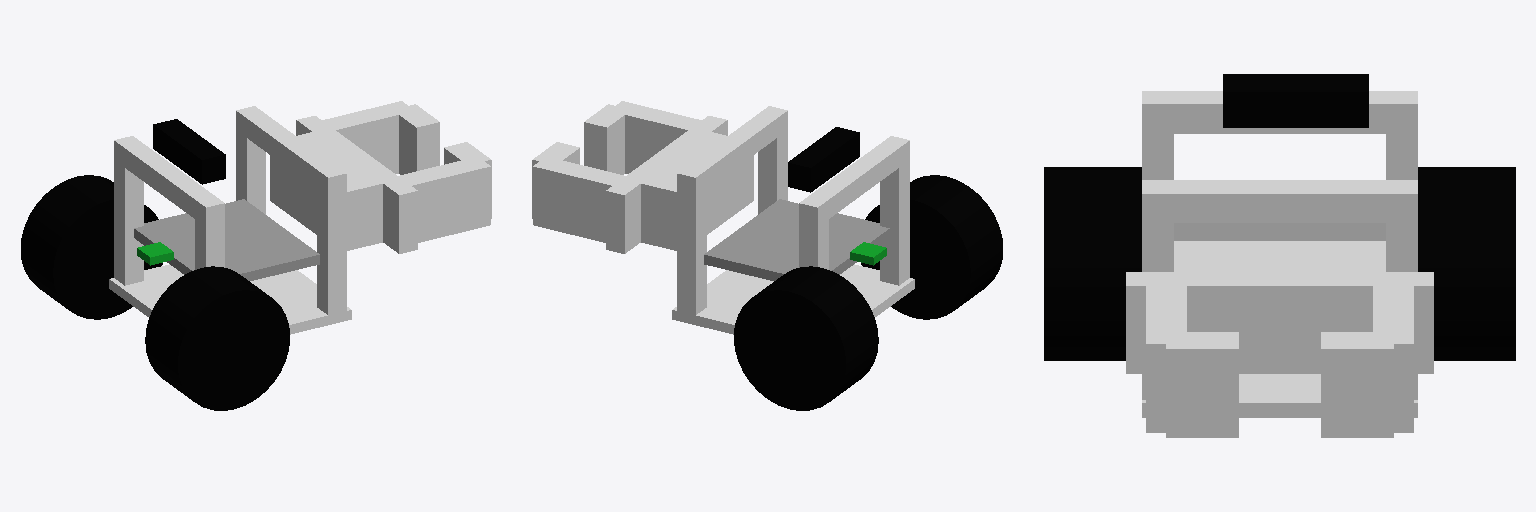
The robot description file, URDF, robot "rescue_robot":
<?xml version="1.0"?>
<robot name="rescue_robot">

  <!--
    ROS 좌표축
    +X : 그리퍼 방향, 로봇 전방
    +Y : 로봇 왼쪽
    +Z : 위쪽

    높이 기준
    지면                  : 0 mm
    바퀴축 중심           : 60 mm
    차체 하판 밑면        : 30 mm
    차체 프레임 최고점   : 180 mm
    그리퍼 밑면           : 90 mm
    그리퍼 윗면          : 150 mm
    IMU 중심             : 100 mm
    카메라 중심          : base_link 기준 실측 장착값 z = 130 mm

    CAD reference (STEP/STL, 2026-09-03)
    전체 외곽             : X 372.972 mm, Y 225.995 mm, Z 298.629 mm
    CAD 원점은 base_link와 일치한다고 확정되지 않았으므로,
    아래 cad_model_link는 RViz 형상 확인용으로만 사용한다.
  -->


  <!-- 색상 -->

  <material name="white">
    <color rgba="0.92 0.92 0.92 1.0"/>
  </material>

  <material name="light_gray">
    <color rgba="0.65 0.65 0.65 1.0"/>
  </material>

  <material name="black">
    <color rgba="0.03 0.03 0.03 1.0"/>
  </material>

  <material name="green">
    <color rgba="0.10 0.70 0.20 1.0"/>
  </material>


  <!-- 기본 좌표계 -->

  <link name="base_footprint"/>

  <link name="base_link"/>

  <!-- 바퀴 반지름 60mm이므로 바퀴축은 지면에서 60mm -->
  <joint name="base_footprint_to_base_link" type="fixed">
    <parent link="base_footprint"/>
    <child link="base_link"/>
    <origin xyz="0 0 0.060" rpy="0 0 0"/>
  </joint>


  <!-- ====================================================== -->
  <!-- 차체 하판 -->
  <!-- 밑면 30mm, 두께 10mm, 윗면 40mm -->
  <!-- ====================================================== -->

  <link name="lower_body_plate_link">
    <visual>
      <geometry>
        <box size="0.160 0.170 0.010"/>
      </geometry>
      <material name="white"/>
    </visual>
  </link>

  <joint name="lower_body_plate_joint" type="fixed">
    <parent link="base_link"/>
    <child link="lower_body_plate_link"/>

    <!-- 절대 중심 높이 35mm - base_link 60mm = -25mm -->
    <origin xyz="0.080 0 -0.025" rpy="0 0 0"/>
  </joint>


  <!-- ====================================================== -->
  <!-- 차체 세로 프레임 -->
  <!-- 하판 윗면 40mm부터 최고점 180mm까지 -->
  <!-- 높이 140mm, 중심 절대 높이 110mm -->
  <!-- base_link 기준 z = 50mm -->
  <!-- ====================================================== -->

  <!-- 뒤쪽 왼쪽 세로 프레임 -->
  <link name="rear_left_post_link">
    <visual>
      <geometry>
        <box size="0.020 0.020 0.140"/>
      </geometry>
      <material name="white"/>
    </visual>
  </link>

  <joint name="rear_left_post_joint" type="fixed">
    <parent link="base_link"/>
    <child link="rear_left_post_link"/>
    <origin xyz="0.015 0.075 0.050" rpy="0 0 0"/>
  </joint>


  <!-- 뒤쪽 오른쪽 세로 프레임 -->
  <link name="rear_right_post_link">
    <visual>
      <geometry>
        <box size="0.020 0.020 0.140"/>
      </geometry>
      <material name="white"/>
    </visual>
  </link>

  <joint name="rear_right_post_joint" type="fixed">
    <parent link="base_link"/>
    <child link="rear_right_post_link"/>
    <origin xyz="0.015 -0.075 0.050" rpy="0 0 0"/>
  </joint>


  <!-- 앞쪽 왼쪽 세로 프레임 -->
  <link name="front_left_post_link">
    <visual>
      <geometry>
        <box size="0.020 0.020 0.140"/>
      </geometry>
      <material name="white"/>
    </visual>
  </link>

  <joint name="front_left_post_joint" type="fixed">
    <parent link="base_link"/>
    <child link="front_left_post_link"/>
    <origin xyz="0.145 0.075 0.050" rpy="0 0 0"/>
  </joint>


  <!-- 앞쪽 오른쪽 세로 프레임 -->
  <link name="front_right_post_link">
    <visual>
      <geometry>
        <box size="0.020 0.020 0.140"/>
      </geometry>
      <material name="white"/>
    </visual>
  </link>

  <joint name="front_right_post_joint" type="fixed">
    <parent link="base_link"/>
    <child link="front_right_post_link"/>
    <origin xyz="0.145 -0.075 0.050" rpy="0 0 0"/>
  </joint>


  <!-- ====================================================== -->
  <!-- 센서 장착판 -->
  <!-- 중심 높이 91mm, 두께 10mm -->
  <!-- 윗면 96mm -->
  <!-- ====================================================== -->

  <link name="sensor_plate_link">
    <visual>
      <geometry>
        <box size="0.120 0.140 0.010"/>
      </geometry>
      <material name="light_gray"/>
    </visual>
  </link>

  <joint name="sensor_plate_joint" type="fixed">
    <parent link="base_link"/>
    <child link="sensor_plate_link"/>

    <!-- 절대 91mm - base_link 60mm = 31mm -->
    <origin xyz="0.075 0 0.031" rpy="0 0 0"/>
  </joint>


  <!-- ====================================================== -->
  <!-- 차체 위쪽 연결 프레임 -->
  <!-- 전체 차체 최고점 180mm -->
  <!-- ====================================================== -->

  <link name="top_front_bridge_link">
    <visual>
      <geometry>
        <box size="0.020 0.170 0.020"/>
      </geometry>
      <material name="white"/>
    </visual>
  </link>

  <joint name="top_front_bridge_joint" type="fixed">
    <parent link="base_link"/>
    <child link="top_front_bridge_link"/>

    <!-- 중심 절대 높이 170mm -->
    <origin xyz="0.145 0 0.110" rpy="0 0 0"/>
  </joint>


  <link name="top_rear_bridge_link">
    <visual>
      <geometry>
        <box size="0.020 0.170 0.020"/>
      </geometry>
      <material name="white"/>
    </visual>
  </link>

  <joint name="top_rear_bridge_joint" type="fixed">
    <parent link="base_link"/>
    <child link="top_rear_bridge_link"/>
    <origin xyz="0.015 0 0.110" rpy="0 0 0"/>
  </joint>


  <!-- ====================================================== -->
  <!-- 왼쪽 바퀴 -->
  <!-- ====================================================== -->

  <link name="left_wheel_link">
    <visual>
      <origin xyz="0 0 0" rpy="1.5708 0 0"/>

      <geometry>
        <cylinder radius="0.060" length="0.060"/>
      </geometry>

      <material name="black"/>
    </visual>
  </link>

  <joint name="left_wheel_joint" type="fixed">
    <parent link="base_link"/>
    <child link="left_wheel_link"/>

    <!-- 좌우 바퀴 중심 간 거리 230mm -->
    <origin xyz="0 0.115 0" rpy="0 0 0"/>
  </joint>


  <!-- ====================================================== -->
  <!-- 오른쪽 바퀴 -->
  <!-- ====================================================== -->

  <link name="right_wheel_link">
    <visual>
      <origin xyz="0 0 0" rpy="1.5708 0 0"/>

      <geometry>
        <cylinder radius="0.060" length="0.060"/>
      </geometry>

      <material name="black"/>
    </visual>
  </link>

  <joint name="right_wheel_joint" type="fixed">
    <parent link="base_link"/>
    <child link="right_wheel_link"/>
    <origin xyz="0 -0.115 0" rpy="0 0 0"/>
  </joint>


  <!-- ====================================================== -->
  <!-- 그리퍼 중앙 연결부 -->
  <!-- 밑면 90mm, 높이 60mm, 윗면 150mm -->
  <!-- 중심 절대 높이 120mm -->
  <!-- base_link 기준 z = 60mm -->
  <!-- ====================================================== -->

  <link name="gripper_connector_link">
    <visual>
      <geometry>
        <box size="0.050 0.130 0.060"/>
      </geometry>
      <material name="white"/>
    </visual>
  </link>

  <joint name="gripper_connector_joint" type="fixed">
    <parent link="base_link"/>
    <child link="gripper_connector_link"/>
    <origin xyz="0.185 0 0.060" rpy="0 0 0"/>
  </joint>


  <!-- 그리퍼 좌우 연결 가로대 -->

  <link name="gripper_bridge_link">
    <visual>
      <geometry>
        <box size="0.020 0.190 0.060"/>
      </geometry>
      <material name="white"/>
    </visual>
  </link>

  <joint name="gripper_bridge_joint" type="fixed">
    <parent link="base_link"/>
    <child link="gripper_bridge_link"/>
    <origin xyz="0.215 0 0.060" rpy="0 0 0"/>
  </joint>


  <!-- ====================================================== -->
  <!-- 왼쪽 그리퍼 암 -->
  <!-- ====================================================== -->

  <link name="left_gripper_arm_link">
    <visual>
      <geometry>
        <box size="0.090 0.025 0.060"/>
      </geometry>
      <material name="white"/>
    </visual>
  </link>

  <joint name="left_gripper_arm_joint" type="fixed">
    <parent link="base_link"/>
    <child link="left_gripper_arm_link"/>
    <origin xyz="0.265 0.070 0.060" rpy="0 0 0"/>
  </joint>


  <!-- 왼쪽 그리퍼 안쪽 끝부분 -->

  <link name="left_gripper_tip_link">
    <visual>
      <geometry>
        <box size="0.025 0.045 0.060"/>
      </geometry>
      <material name="white"/>
    </visual>
  </link>

  <joint name="left_gripper_tip_joint" type="fixed">
    <parent link="base_link"/>
    <child link="left_gripper_tip_link"/>
    <origin xyz="0.305 0.0475 0.060" rpy="0 0 0"/>
  </joint>


  <!-- ====================================================== -->
  <!-- 오른쪽 그리퍼 암 -->
  <!-- ====================================================== -->

  <link name="right_gripper_arm_link">
    <visual>
      <geometry>
        <box size="0.090 0.025 0.060"/>
      </geometry>
      <material name="white"/>
    </visual>
  </link>

  <joint name="right_gripper_arm_joint" type="fixed">
    <parent link="base_link"/>
    <child link="right_gripper_arm_link"/>
    <origin xyz="0.265 -0.070 0.060" rpy="0 0 0"/>
  </joint>


  <!-- 오른쪽 그리퍼 안쪽 끝부분 -->

  <link name="right_gripper_tip_link">
    <visual>
      <geometry>
        <box size="0.025 0.045 0.060"/>
      </geometry>
      <material name="white"/>
    </visual>
  </link>

  <joint name="right_gripper_tip_joint" type="fixed">
    <parent link="base_link"/>
    <child link="right_gripper_tip_link"/>
    <origin xyz="0.305 -0.0475 0.060" rpy="0 0 0"/>
  </joint>


  <!-- ====================================================== -->
  <!-- RealSense 카메라 -->
  <!-- 카메라 중심 실측 장착값: base_link 기준 x=42mm, y=0mm, z=130mm -->
  <!-- ====================================================== -->

  <link name="camera_link">
    <visual>
      <geometry>
        <box size="0.025 0.090 0.025"/>
      </geometry>
      <material name="black"/>
    </visual>
  </link>

  <joint name="camera_joint" type="fixed">
    <parent link="base_link"/>
    <child link="camera_link"/>
    <origin xyz="0.042 0.010 0.130" rpy="0 0 0"/>
  </joint>


  <!-- ====================================================== -->
  <!-- BNO055 IMU -->
  <!-- IMU 중심 절대 높이 100mm -->
  <!-- base_link 기준 z = 40mm -->
  <!-- ====================================================== -->

  <link name="imu_link">
    <visual>
      <geometry>
        <box size="0.025 0.025 0.008"/>
      </geometry>
      <material name="green"/>
    </visual>
  </link>

  <joint name="imu_joint" type="fixed">
    <parent link="base_link"/>
    <child link="imu_link"/>
    <origin xyz="0 0 0.040" rpy="0 0 0"/>
  </joint>

  <!-- ====================================================== -->
  <!-- CAD 전체 형상 (RViz visual reference)                  -->
  <!-- STL은 mm 단위이므로 ROS에서 0.001 배율을 사용한다.     -->
  <!-- 바퀴/센서 TF의 기준값은 기존 URDF를 유지한다.           -->
  <!-- ====================================================== -->

  <link name="cad_model_link">
    <visual>
      <!-- STL 외곽 시작점을 base_link 부근으로 옮기는 초기 배치값.
           FreeCAD에서 base_link 기준점을 확정하면 이 값만 갱신한다. -->
      <origin xyz="0.084097 0.034995 0.120000" rpy="0 0 0"/>
      <geometry>
        <mesh filename="package://rescue_robot_description/meshes/robot_cad.stl"
              scale="0.001 0.001 0.001"/>
      </geometry>
    </visual>
  </link>

  <joint name="base_link_to_cad_model" type="fixed">
    <parent link="base_link"/>
    <child link="cad_model_link"/>
    <origin xyz="0 0 0" rpy="0 0 0"/>
  </joint>

</robot>

--- Facts derived from the render (not from the file) ---
Views: 3 orthographic renders of the robot side by side, from view 1: azimuth 30°, elevation 25°; view 2: azimuth 150°, elevation 25°; view 3: azimuth 270°, elevation 25°.
Robot: rescue_robot — 21 links, 20 joints (20 fixed); root link base_footprint; default pose: all joints at 0.
Links seen in each view (by area): view 1: right_wheel_link, left_wheel_link, sensor_plate_link, gripper_connector_link, right_gripper_arm_link, lower_body_plate_link, front_right_post_link, gripper_bridge_link, rear_left_post_link, top_front_bridge_link, left_gripper_arm_link, top_rear_bridge_link (+6 smaller); view 2: left_wheel_link, right_wheel_link, sensor_plate_link, gripper_connector_link, left_gripper_arm_link, lower_body_plate_link, front_left_post_link, gripper_bridge_link, rear_right_post_link, right_gripper_arm_link, top_front_bridge_link, top_rear_bridge_link (+6 smaller); view 3: gripper_bridge_link, left_wheel_link, right_wheel_link, top_front_bridge_link, camera_link, left_gripper_tip_link, right_gripper_tip_link, gripper_connector_link, left_gripper_arm_link, right_gripper_arm_link, top_rear_bridge_link, sensor_plate_link (+5 smaller).
Link boxes in pixels (<box>): right_wheel_link: <box>145,266,289,410</box>; left_wheel_link: <box>21,175,162,319</box>; sensor_plate_link: <box>134,199,319,280</box>; gripper_connector_link: <box>270,131,386,250</box>; right_gripper_arm_link: <box>399,161,490,242</box>; lower_body_plate_link: <box>109,264,351,334</box>; front_right_post_link: <box>317,166,346,314</box>; gripper_bridge_link: <box>296,116,417,253</box>; rear_left_post_link: <box>114,136,143,285</box>; top_front_bridge_link: <box>236,106,346,195</box>; left_gripper_arm_link: <box>317,101,414,173</box>; top_rear_bridge_link: <box>114,136,224,224</box>; left_wheel_link: <box>734,266,878,410</box>; right_wheel_link: <box>861,175,1002,319</box>; sensor_plate_link: <box>704,199,889,280</box>; gripper_connector_link: <box>637,132,753,250</box>; left_gripper_arm_link: <box>533,156,629,242</box>; lower_body_plate_link: <box>672,264,914,334</box>; front_left_post_link: <box>677,166,706,314</box>; gripper_bridge_link: <box>606,116,727,253</box>; rear_right_post_link: <box>880,136,909,285</box>; right_gripper_arm_link: <box>609,101,706,173</box>; top_front_bridge_link: <box>677,106,787,196</box>; top_rear_bridge_link: <box>799,136,909,225</box>; gripper_bridge_link: <box>1126,272,1433,373</box>; left_wheel_link: <box>1418,167,1515,360</box>; right_wheel_link: <box>1044,167,1141,360</box>; top_front_bridge_link: <box>1142,180,1417,222</box>; camera_link: <box>1223,74,1368,127</box>; left_gripper_tip_link: <box>1321,332,1393,437</box>; right_gripper_tip_link: <box>1166,332,1238,437</box>; gripper_connector_link: <box>1174,241,1385,275</box>; left_gripper_arm_link: <box>1373,286,1413,432</box>; right_gripper_arm_link: <box>1146,286,1186,432</box>; top_rear_bridge_link: <box>1142,91,1417,133</box>; sensor_plate_link: <box>1174,223,1385,240</box>.
Bounding box of the posed robot: 0.3775 × 0.29 × 0.2025 m (x, y, z).
0 mesh visuals loaded from 1 distinct referenced files (none loaded); not drawn: 1 (reference not matched to a file when rendering).
